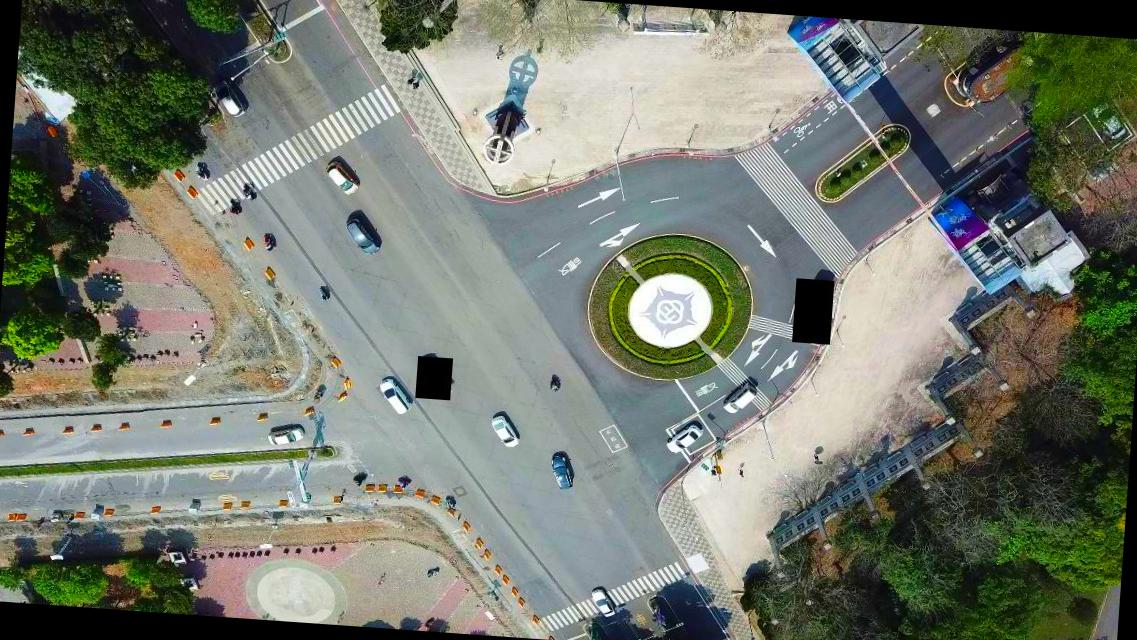vehicle: (1090, 95, 1126, 140), (210, 77, 249, 118), (374, 377, 412, 416), (344, 216, 382, 254), (324, 159, 360, 196), (722, 381, 757, 415), (665, 422, 702, 454), (487, 413, 520, 448), (548, 453, 575, 490), (266, 423, 305, 448), (588, 587, 616, 618)
